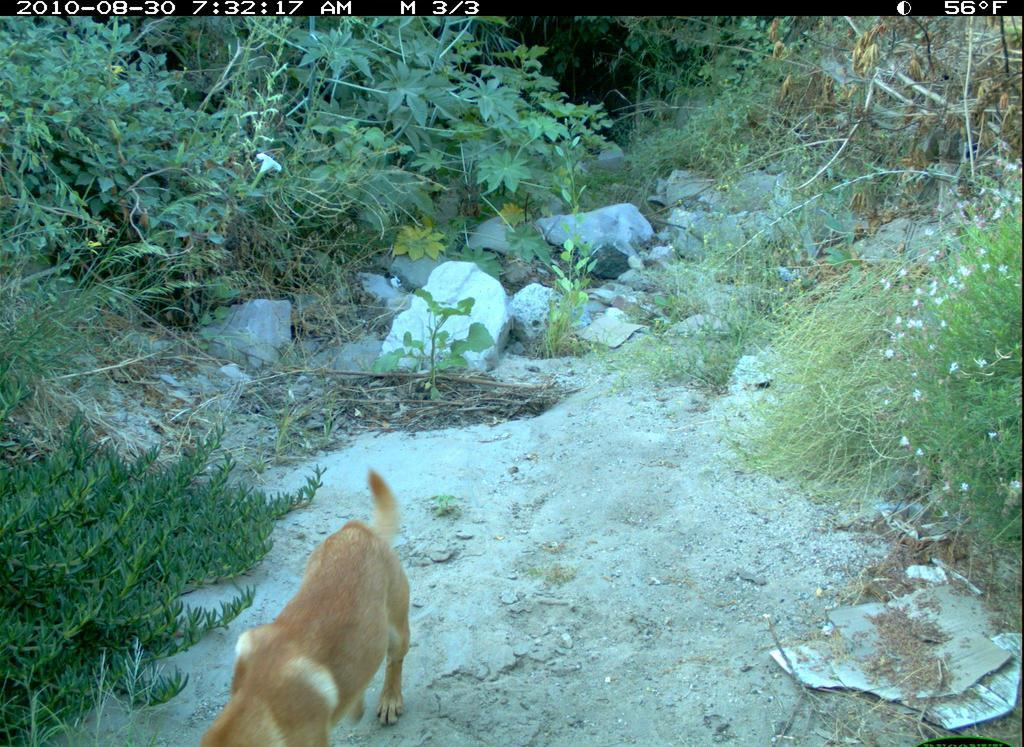dog: (186, 473, 457, 747)
